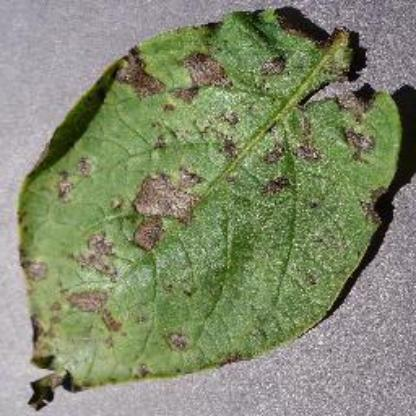Early-Blight: (15, 6, 407, 406)
